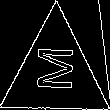M_W: (33, 49, 78, 96)
